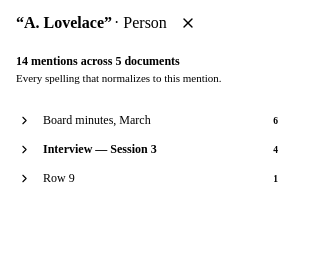
Test: MentionDetailPanel — Level 2 › fetches nothing until a document is expanded, then only for that document
Click the 1st button with test id "mention-detail-expand": (24, 121) x1=16 y1=110 x2=33 y2=131
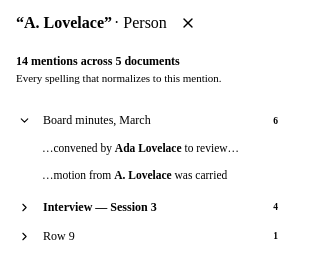
Expected: the list with test id "mention-occurrence-list" is shown, x1=16 y1=135 x2=292 y2=189
